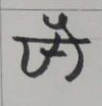ai_matra: (44, 14, 82, 41)
